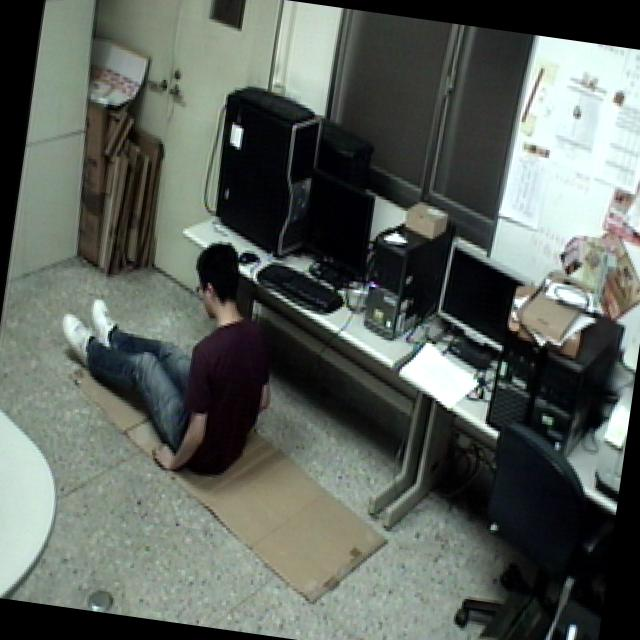sit: (28, 212, 296, 493)
